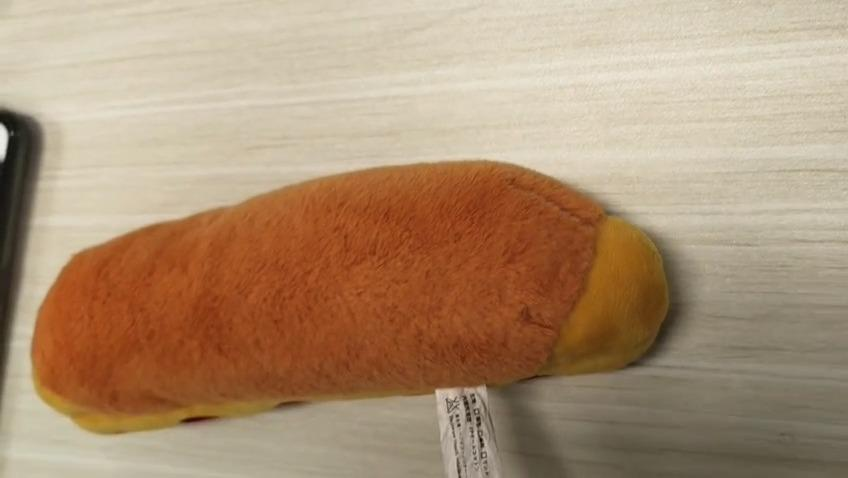hotdog: (30, 160, 670, 436)
